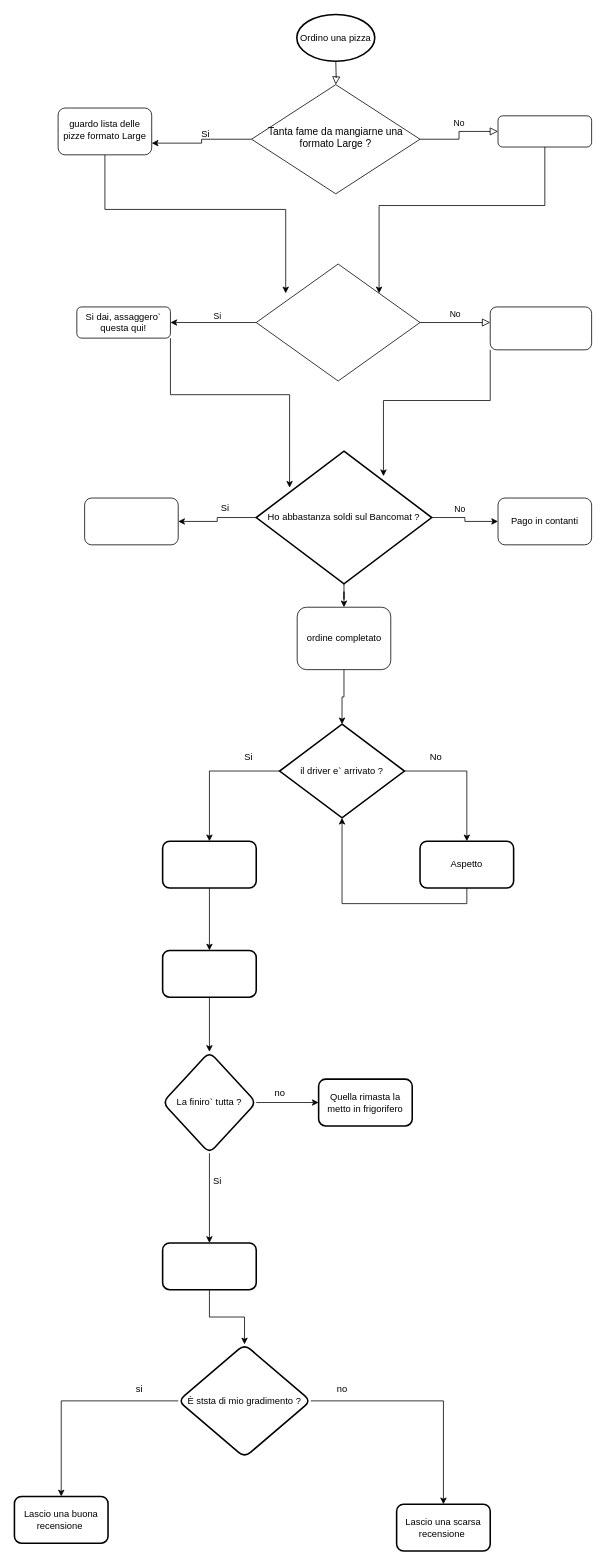
Image size: 605x1565. Some labels were removed from this diagram. Here are the shapes that lost their labels. From the top down, the centre of each, then its label:
At (544,131): "guardo lista delle pizze formato standard".
At (337,322): "Stasera ho voglia di assaggiare qualcosa di diverso?".
At (540,328): "Chi me lo fa fare... Stessa pizza di sempre!".
At (131,521): "Pago con il Bancomat".
At (209,864): "Apro e prendo la pizza.".
At (209,973): "Mangio la pizza".
At (209,1266): "Butto il cartone del Delivery".
